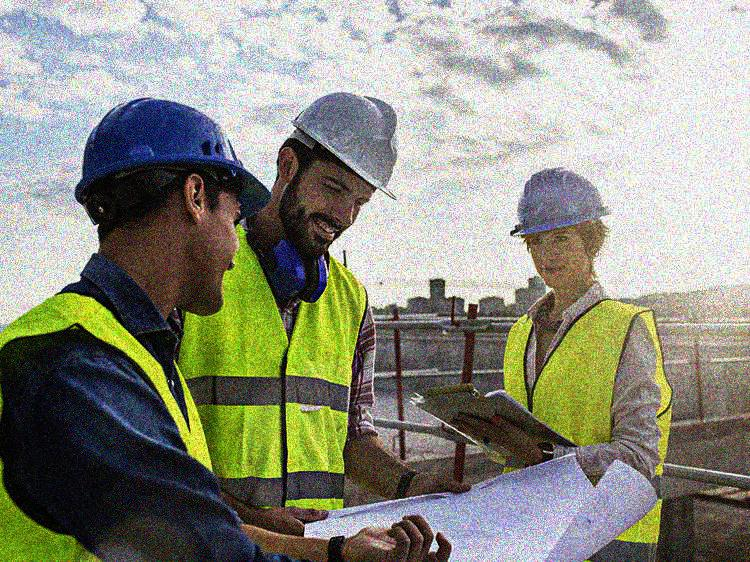helmet: (74, 94, 277, 318), (275, 89, 402, 257), (509, 163, 613, 291)
